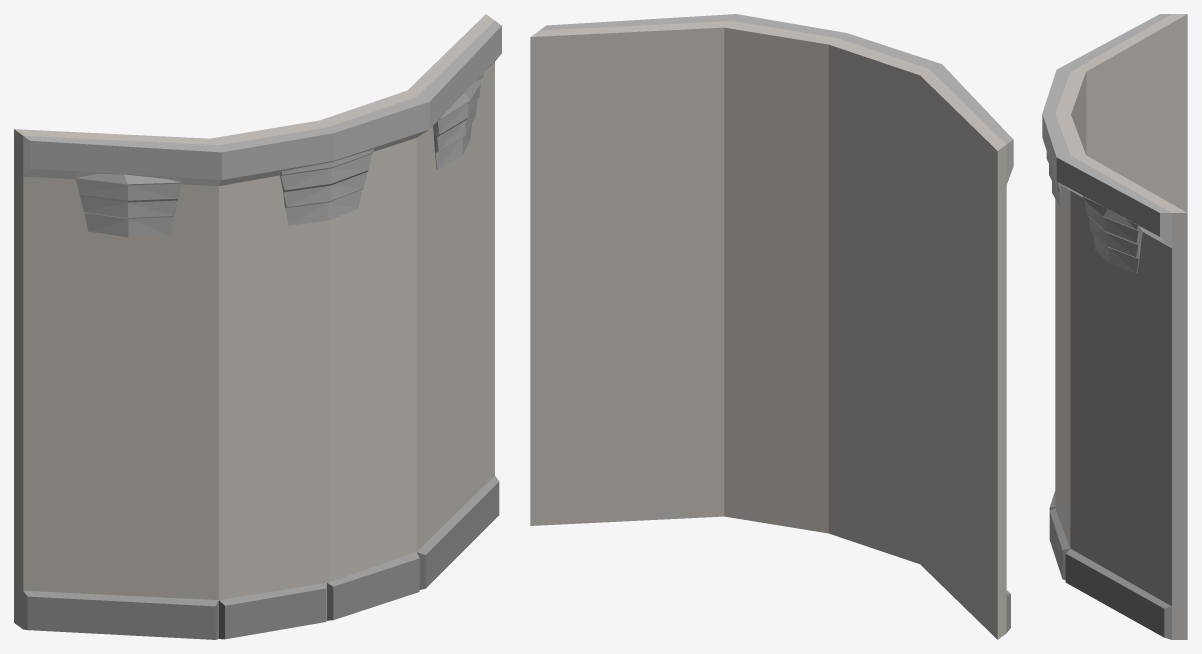
Rendered from _BALKON_01_1.fbx.
The picture shows the model from 3 angles, left to right: view 1: azimuth 30°, elevation 25°; view 2: azimuth 150°, elevation 25°; view 3: azimuth 270°, elevation 25°; orthographic projection. The views are drawn at different scales.
Parts seen in each view (by area): view 1: BALKON_01_1; view 2: BALKON_01_1; view 3: BALKON_01_1.
Part boxes in pixels (x1,y1,x2,y2): BALKON_01_1: (14,14,501,639); BALKON_01_1: (530,14,1013,639); BALKON_01_1: (1042,14,1187,639).
Bounding box in the file's own units: 300 × 300 × 92.6.
